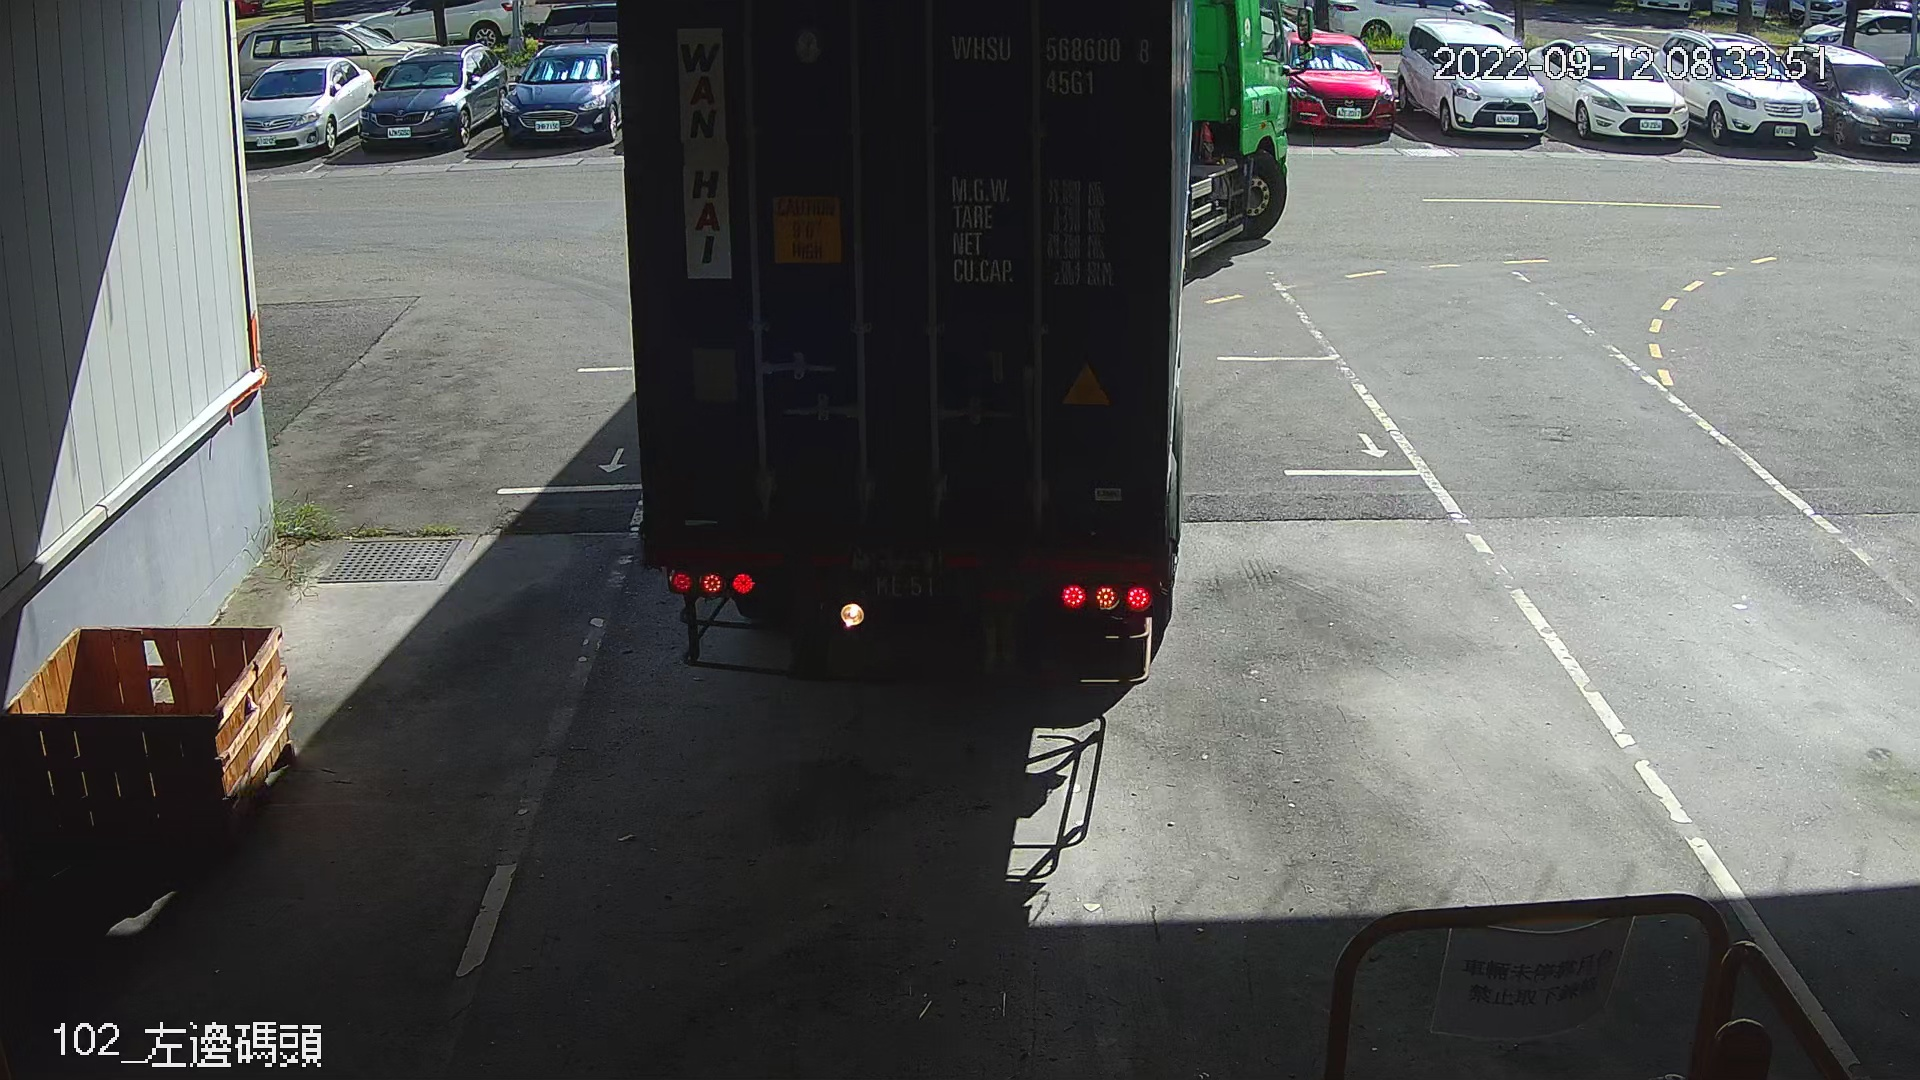container: (942, 18, 1162, 102)
